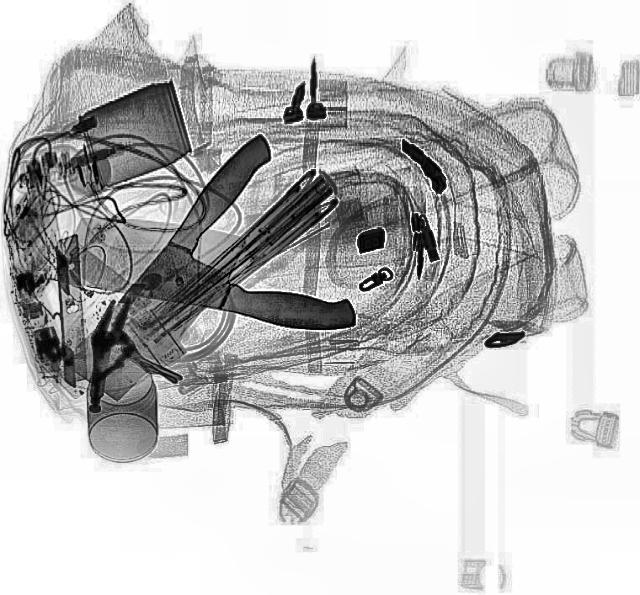Knife: (49, 128, 321, 404), (54, 206, 368, 336)
